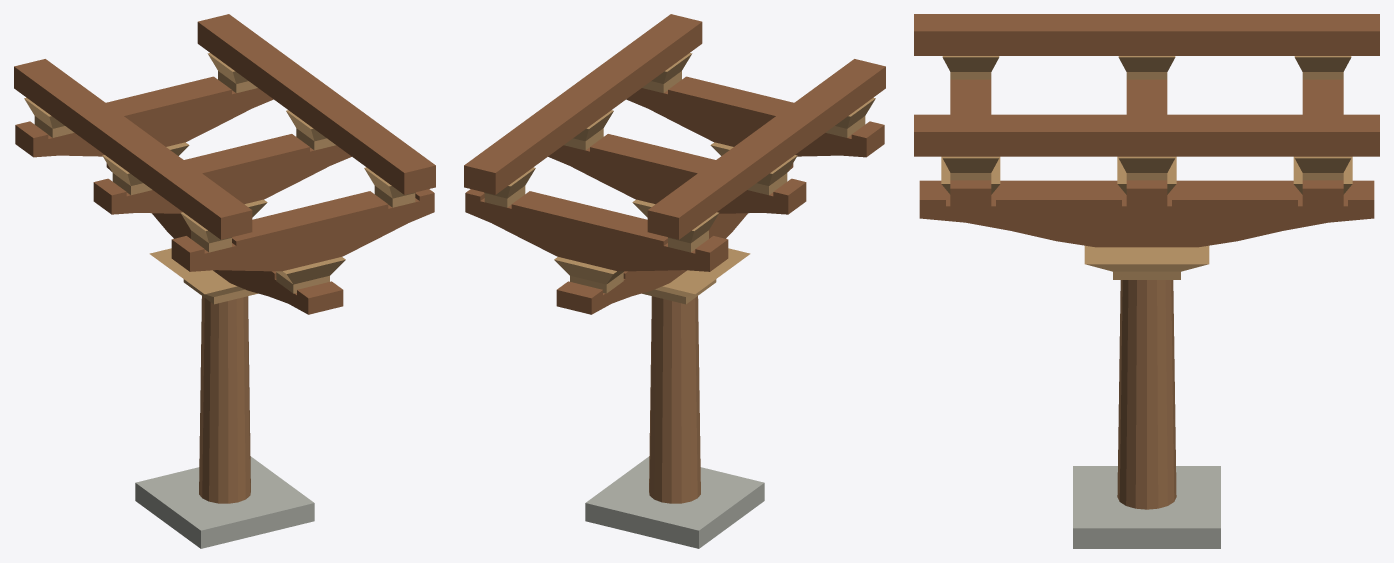
3 renders of one model, left to right at view 1: azimuth 30°, elevation 25°; view 2: azimuth 150°, elevation 25°; view 3: azimuth 270°, elevation 25°, orthographic. The views are drawn at different scales.
Visible parts, largest first — view 1: WholeLongitudinalTerminalRail1, WholeLongitudinalTerminalRail0, WholeTransverseCurvedTwoSeatBracketArm0, WholeTaperedSixteenSidedColumn, WholeSquareGroundPlinth, WholeTransverseCurvedTwoSeatBracketArm1, WholeTransverseCurvedTwoSeatBracketArm2, WholeLongitudinalCurvedThreeSeatBracketArm, WholeFlaredColumnHeadBlock, WholePrimarySteppedBearingBlock0, WholeTerminalSteppedBearingBlock01, WholeTerminalSteppedBearingBlock00 (+4 smaller); view 2: WholeLongitudinalTerminalRail1, WholeLongitudinalTerminalRail0, WholeTransverseCurvedTwoSeatBracketArm2, WholeTaperedSixteenSidedColumn, WholeSquareGroundPlinth, WholeTransverseCurvedTwoSeatBracketArm1, WholeTransverseCurvedTwoSeatBracketArm0, WholeLongitudinalCurvedThreeSeatBracketArm, WholeFlaredColumnHeadBlock, WholePrimarySteppedBearingBlock2, WholeTerminalSteppedBearingBlock21, WholeTerminalSteppedBearingBlock20 (+4 smaller); view 3: WholeLongitudinalCurvedThreeSeatBracketArm, WholeLongitudinalTerminalRail1, WholeLongitudinalTerminalRail0, WholeTaperedSixteenSidedColumn, WholeSquareGroundPlinth, WholeFlaredColumnHeadBlock, WholeTransverseCurvedTwoSeatBracketArm0, WholeTransverseCurvedTwoSeatBracketArm2, WholeTransverseCurvedTwoSeatBracketArm1, WholeTerminalSteppedBearingBlock11, WholeTerminalSteppedBearingBlock01, WholeTerminalSteppedBearingBlock21 (+3 smaller).
Part boxes in pixels (x1=…): WholeLongitudinalTerminalRail1: x1=197, y1=14, x2=435, y2=194; WholeLongitudinalTerminalRail0: x1=14, y1=59, x2=252, y2=239; WholeTransverseCurvedTwoSeatBracketArm0: x1=171, y1=189, x2=434, y2=271; WholeTaperedSixteenSidedColumn: x1=199, y1=296, x2=250, y2=503; WholeSquareGroundPlinth: x1=135, y1=456, x2=314, y2=548; WholeTransverseCurvedTwoSeatBracketArm1: x1=93, y1=134, x2=351, y2=214; WholeTransverseCurvedTwoSeatBracketArm2: x1=15, y1=76, x2=273, y2=157; WholeLongitudinalCurvedThreeSeatBracketArm: x1=106, y1=163, x2=343, y2=314; WholeFlaredColumnHeadBlock: x1=149, y1=248, x2=257, y2=304; WholePrimarySteppedBearingBlock0: x1=276, y1=257, x2=345, y2=293; WholeTerminalSteppedBearingBlock01: x1=364, y1=167, x2=415, y2=207; WholeTerminalSteppedBearingBlock00: x1=180, y1=212, x2=231, y2=252; WholeLongitudinalTerminalRail1: x1=464, y1=14, x2=702, y2=194; WholeLongitudinalTerminalRail0: x1=647, y1=59, x2=885, y2=239; WholeTransverseCurvedTwoSeatBracketArm2: x1=465, y1=189, x2=728, y2=271; WholeTaperedSixteenSidedColumn: x1=649, y1=296, x2=700, y2=503; WholeSquareGroundPlinth: x1=585, y1=456, x2=764, y2=548; WholeTransverseCurvedTwoSeatBracketArm1: x1=548, y1=134, x2=806, y2=214; WholeTransverseCurvedTwoSeatBracketArm0: x1=626, y1=76, x2=884, y2=157; WholeLongitudinalCurvedThreeSeatBracketArm: x1=556, y1=163, x2=793, y2=314; WholeFlaredColumnHeadBlock: x1=642, y1=248, x2=750, y2=304; WholePrimarySteppedBearingBlock2: x1=554, y1=257, x2=623, y2=293; WholeTerminalSteppedBearingBlock21: x1=484, y1=167, x2=535, y2=207; WholeTerminalSteppedBearingBlock20: x1=668, y1=212, x2=719, y2=252; WholeLongitudinalCurvedThreeSeatBracketArm: x1=919, y1=180, x2=1374, y2=247; WholeLongitudinalTerminalRail1: x1=914, y1=114, x2=1379, y2=156; WholeLongitudinalTerminalRail0: x1=914, y1=14, x2=1379, y2=55; WholeTaperedSixteenSidedColumn: x1=1117, y1=280, x2=1176, y2=509; WholeSquareGroundPlinth: x1=1073, y1=466, x2=1220, y2=548; WholeFlaredColumnHeadBlock: x1=1084, y1=245, x2=1209, y2=279; WholeTransverseCurvedTwoSeatBracketArm0: x1=950, y1=79, x2=991, y2=210; WholeTransverseCurvedTwoSeatBracketArm2: x1=1302, y1=79, x2=1343, y2=210; WholeTransverseCurvedTwoSeatBracketArm1: x1=1126, y1=79, x2=1167, y2=210; WholeTerminalSteppedBearingBlock11: x1=1118, y1=156, x2=1175, y2=180; WholeTerminalSteppedBearingBlock01: x1=942, y1=156, x2=999, y2=180; WholeTerminalSteppedBearingBlock21: x1=1294, y1=156, x2=1351, y2=180.
Size of the model in its own units: 2.8 by 4.32 by 4.1.
